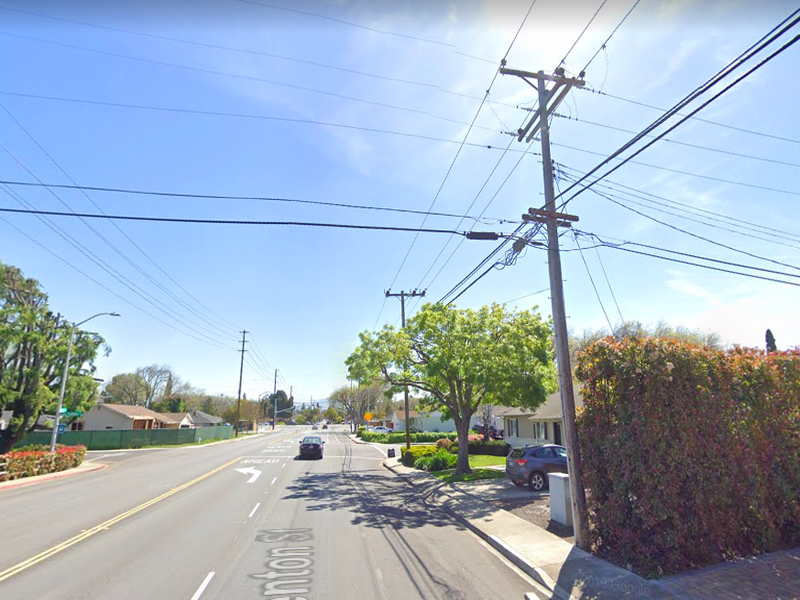tree: (343, 301, 558, 474)
utility_pole: (484, 46, 599, 159), (378, 278, 429, 310)
